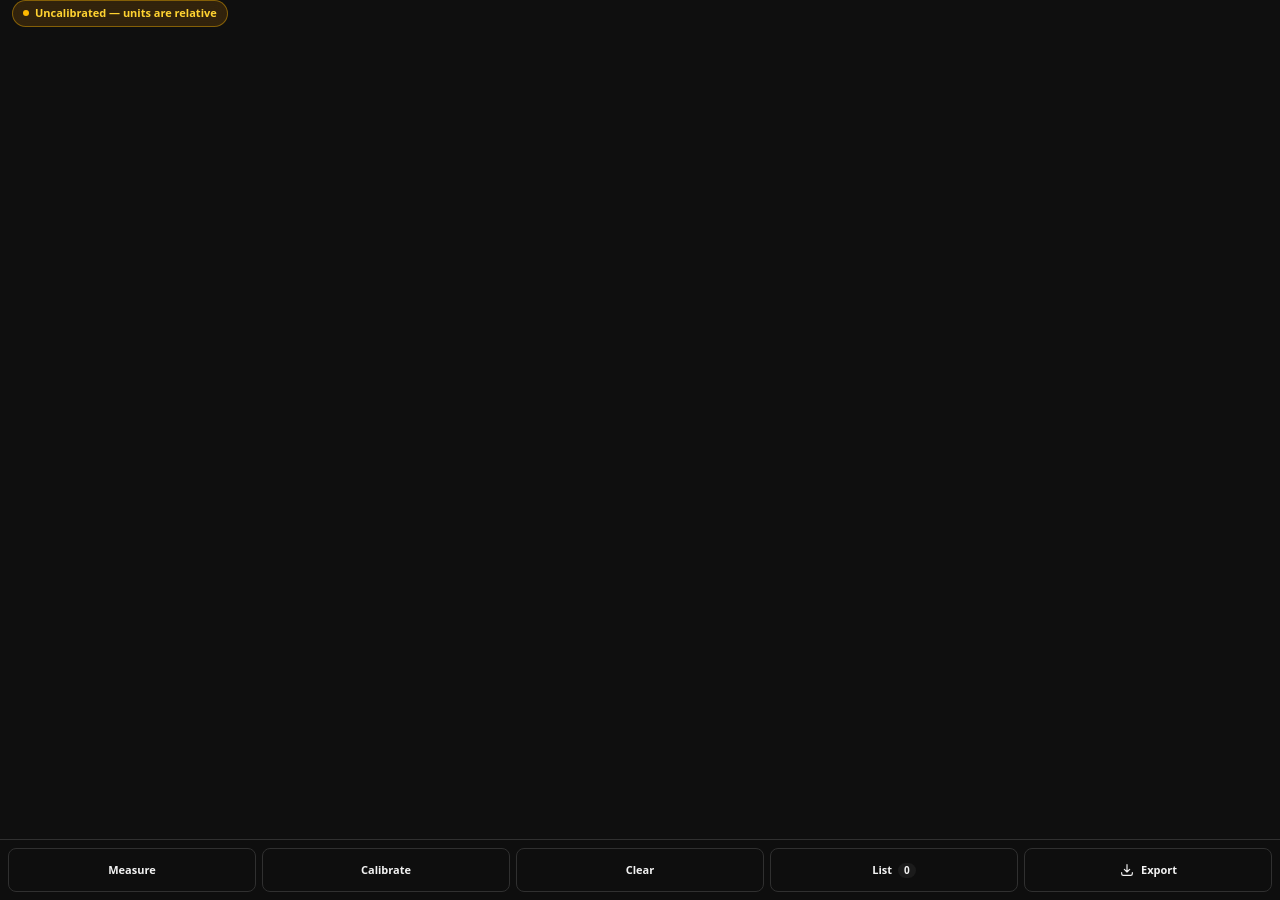
Test: measure toolbar › explains the tap gesture while measuring, without covering the scene
This screenshot has width=1280, height=900.
Click the button "Measure": (132, 870) [8, 848, 256, 892]
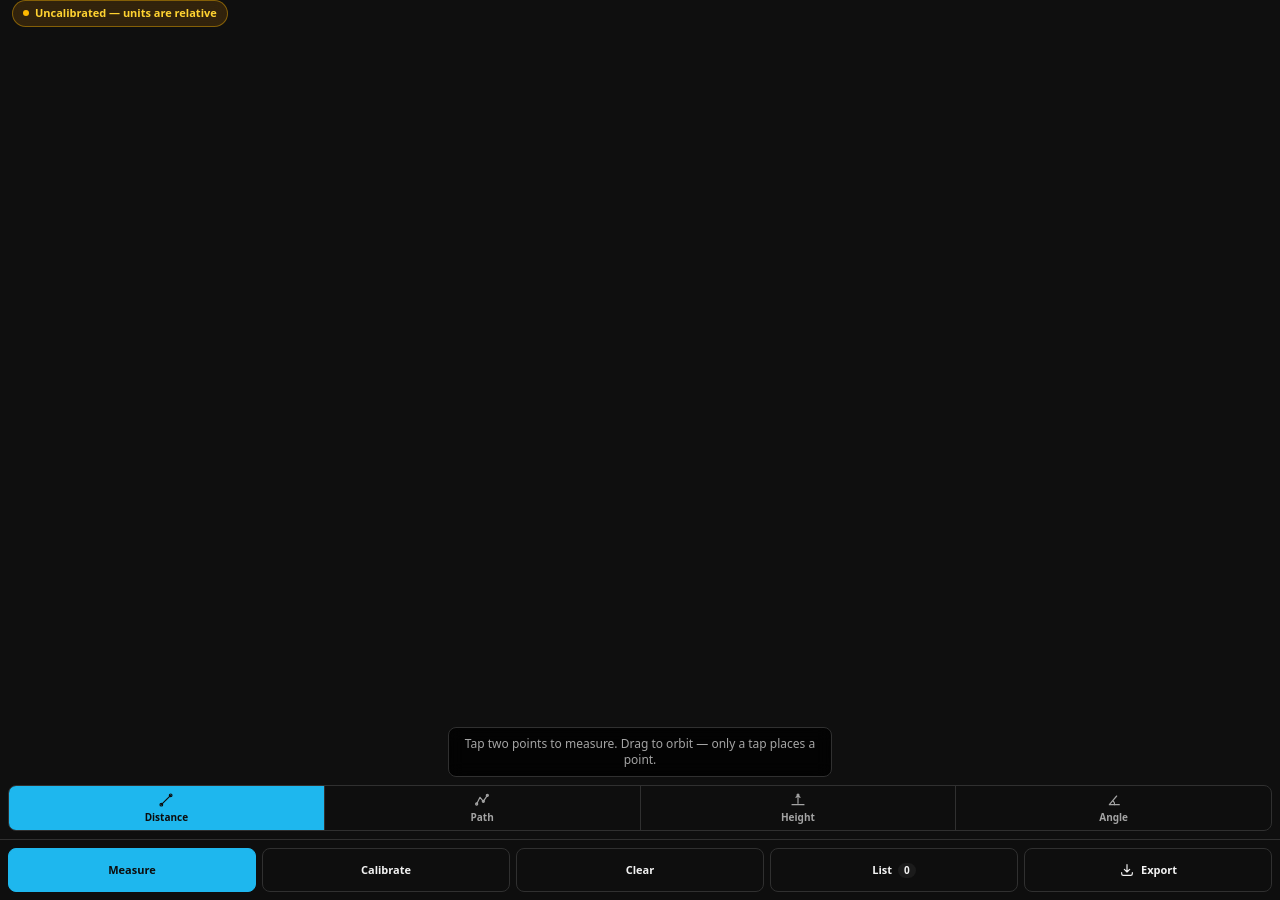
Expected: the text with test id "measure-prompt" shows "Tap two points", [465, 735, 815, 768]
